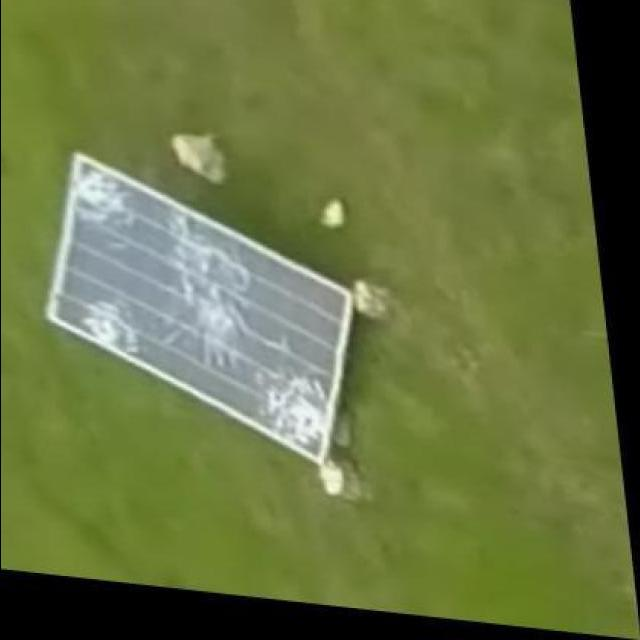cracked: (36, 150, 354, 460)
